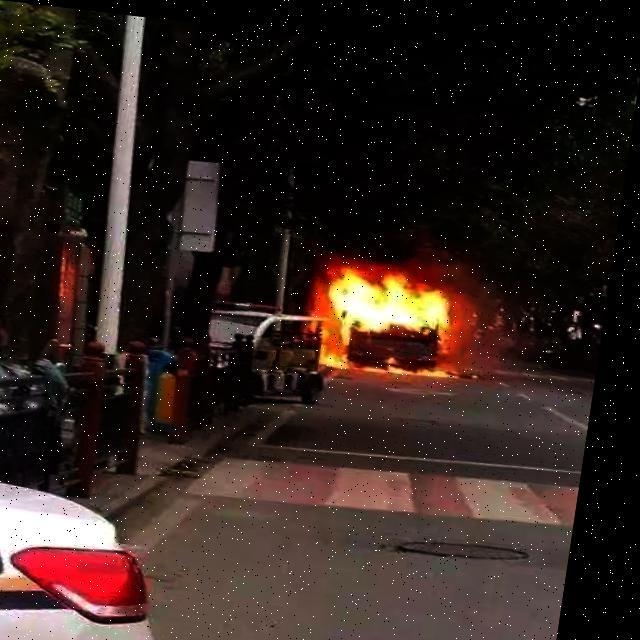Fire: (324, 243, 479, 369)
